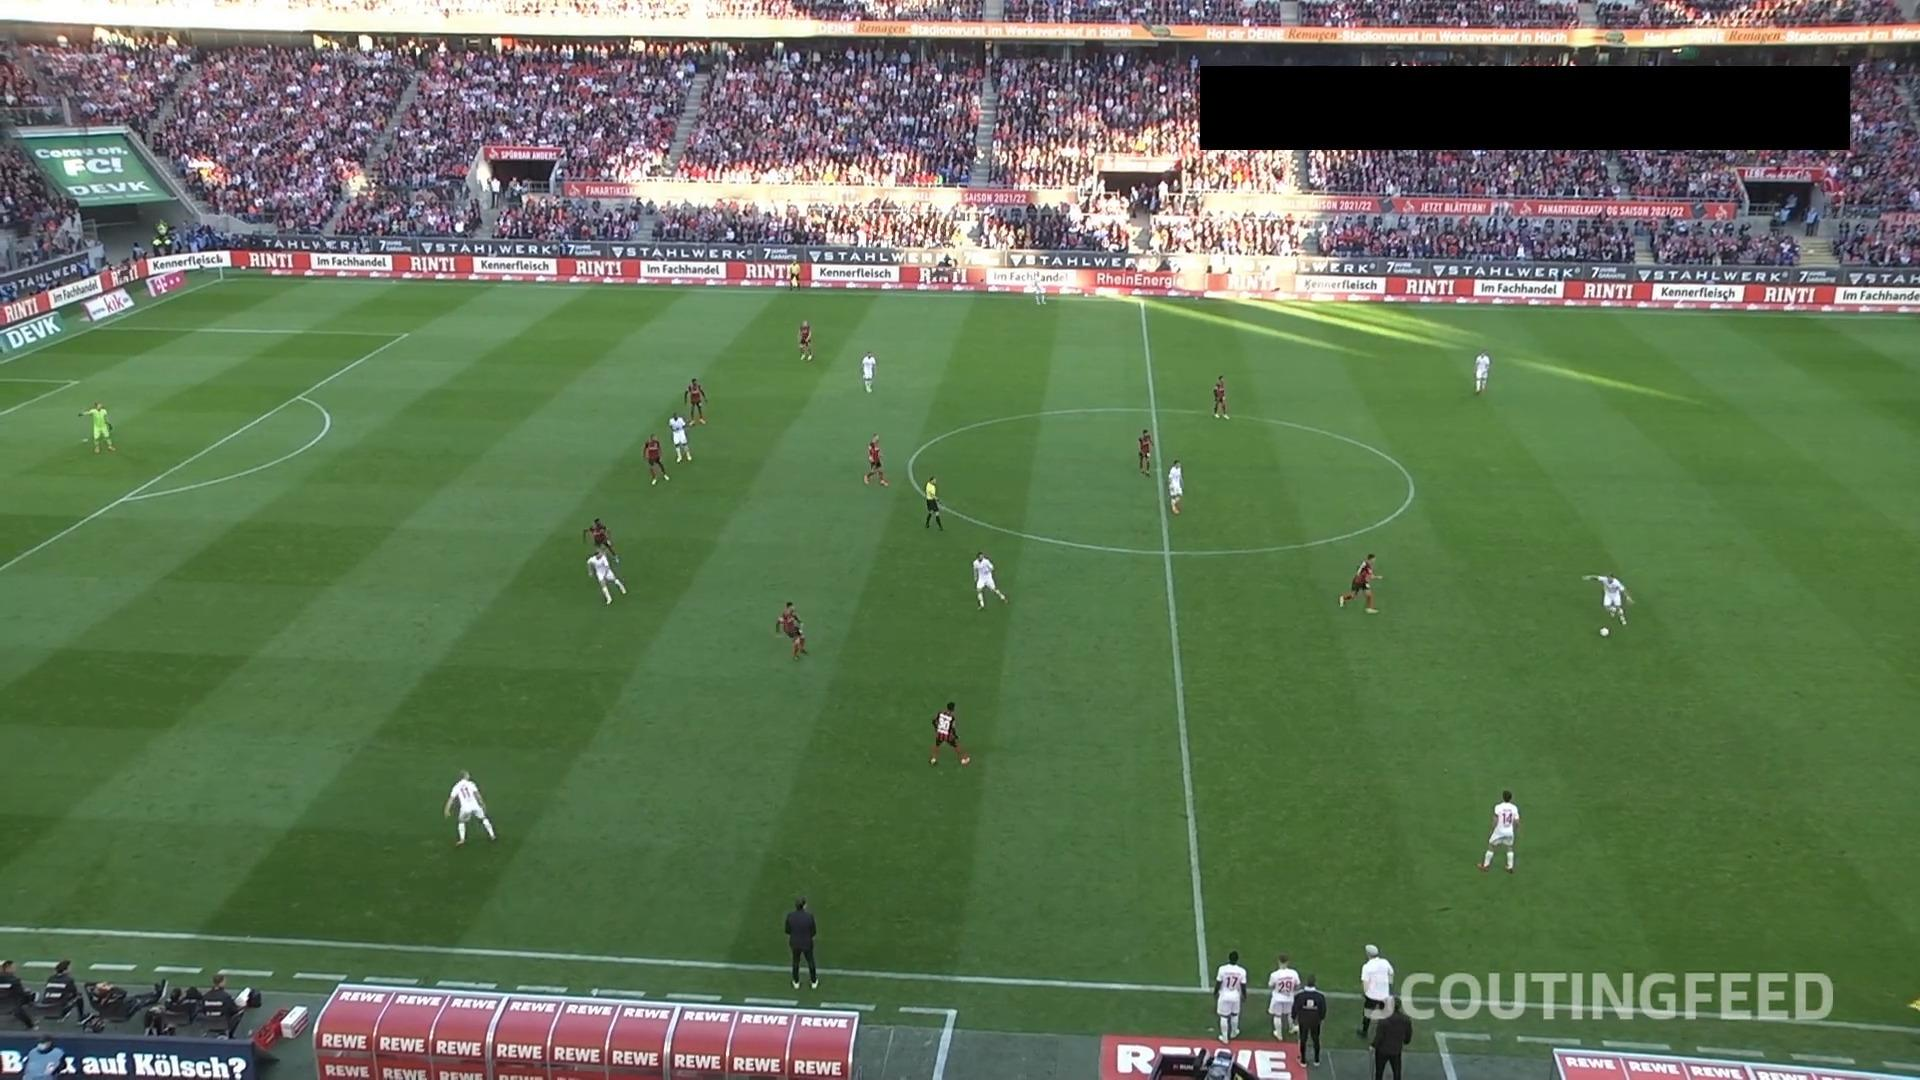ball: (1600, 626, 1610, 637)
